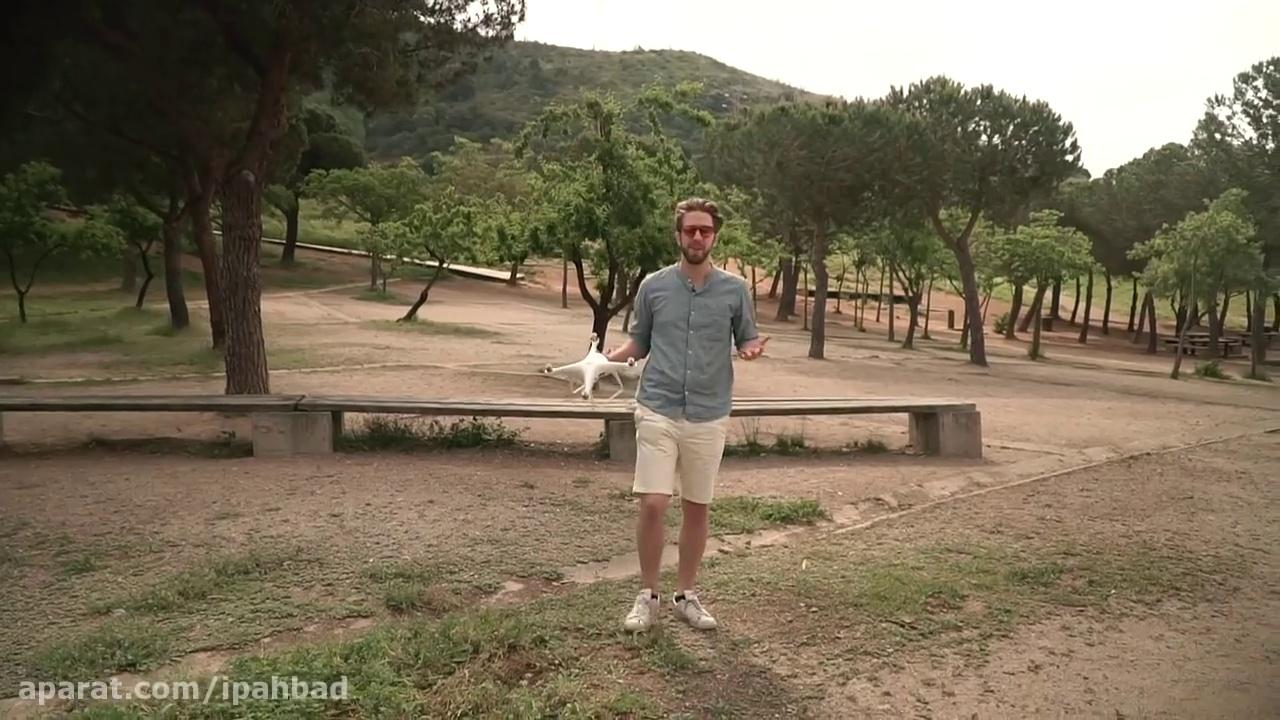drone: (542, 330, 639, 402)
